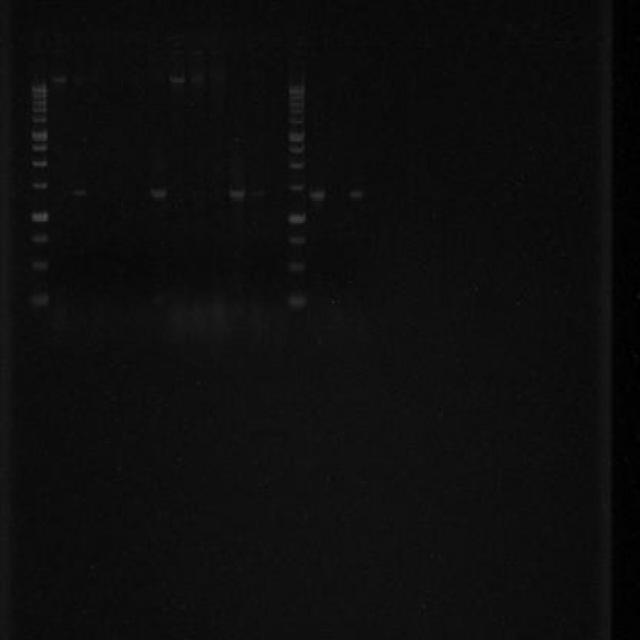B: (309, 185, 328, 202), (246, 187, 268, 201), (150, 184, 168, 201), (346, 186, 364, 202), (228, 184, 247, 199), (68, 185, 88, 198), (170, 72, 184, 85), (52, 76, 66, 85)
L: (29, 20, 614, 63)
M: (284, 74, 310, 316), (29, 78, 53, 316)
P: (30, 288, 50, 308), (286, 294, 308, 310), (30, 256, 50, 273), (288, 258, 306, 276), (288, 210, 306, 228), (30, 230, 50, 246), (30, 208, 50, 224), (30, 179, 48, 193), (30, 157, 48, 171), (30, 128, 48, 142), (30, 112, 48, 126), (288, 234, 306, 248), (287, 129, 304, 143), (30, 142, 48, 155), (288, 81, 306, 94), (288, 114, 306, 126), (288, 180, 304, 193), (288, 158, 304, 171), (30, 82, 48, 93), (287, 143, 304, 154), (30, 104, 48, 113), (288, 106, 306, 114), (288, 98, 306, 106), (30, 98, 48, 105), (30, 93, 48, 99), (288, 95, 306, 99)
Pc: (284, 30, 308, 56), (166, 30, 186, 59), (187, 30, 206, 59), (207, 31, 226, 58), (51, 30, 67, 56)
